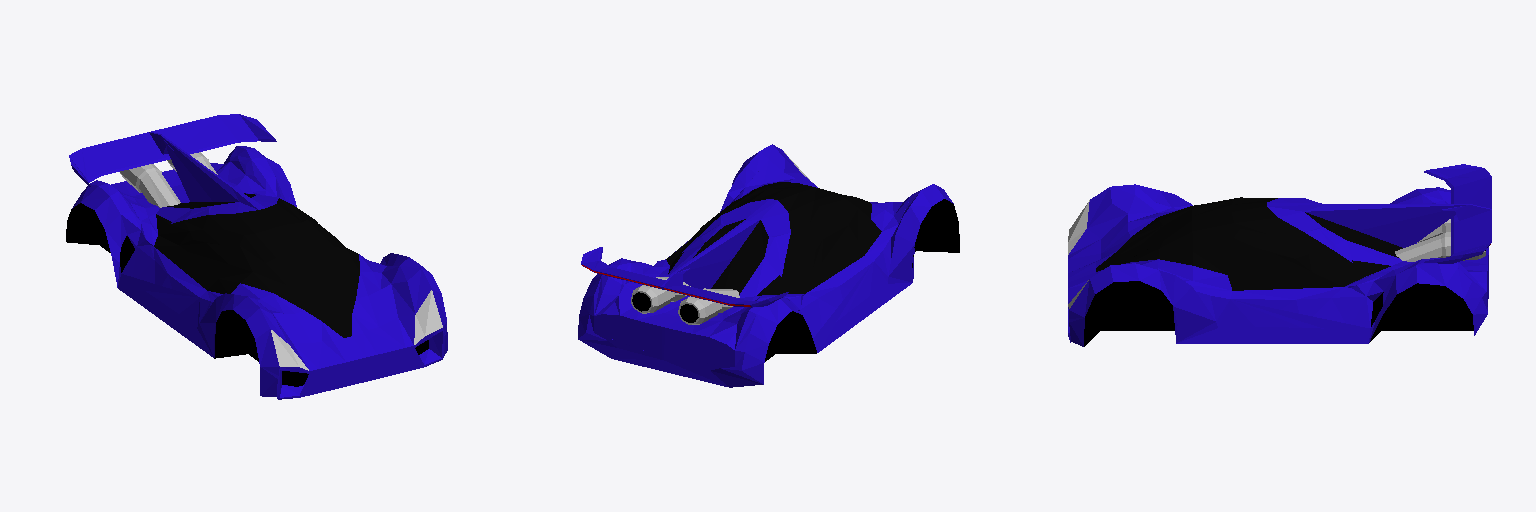
File: spyder_body.obj
3 renders of one model, left to right at view 1: azimuth 30°, elevation 25°; view 2: azimuth 150°, elevation 25°; view 3: azimuth 270°, elevation 25°, orthographic.
Parts seen in each view (by area): view 1: Cube; view 2: Cube; view 3: Cube.
Part boxes in pixels (bbox=[...]): Cube: bbox=[66, 114, 447, 399]; Cube: bbox=[578, 144, 959, 387]; Cube: bbox=[1068, 164, 1491, 346].
Size of the model in its own units: 1.93 by 1.01 by 3.76.